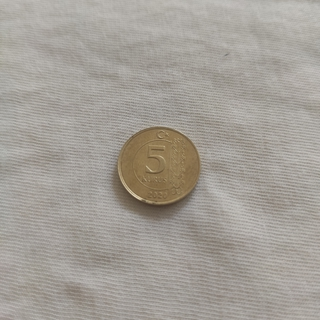5KURUS: (115, 124, 202, 208)
